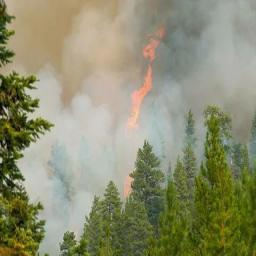Heavy smoke: (1, 0, 256, 215)
Small fire: (120, 27, 173, 127)
